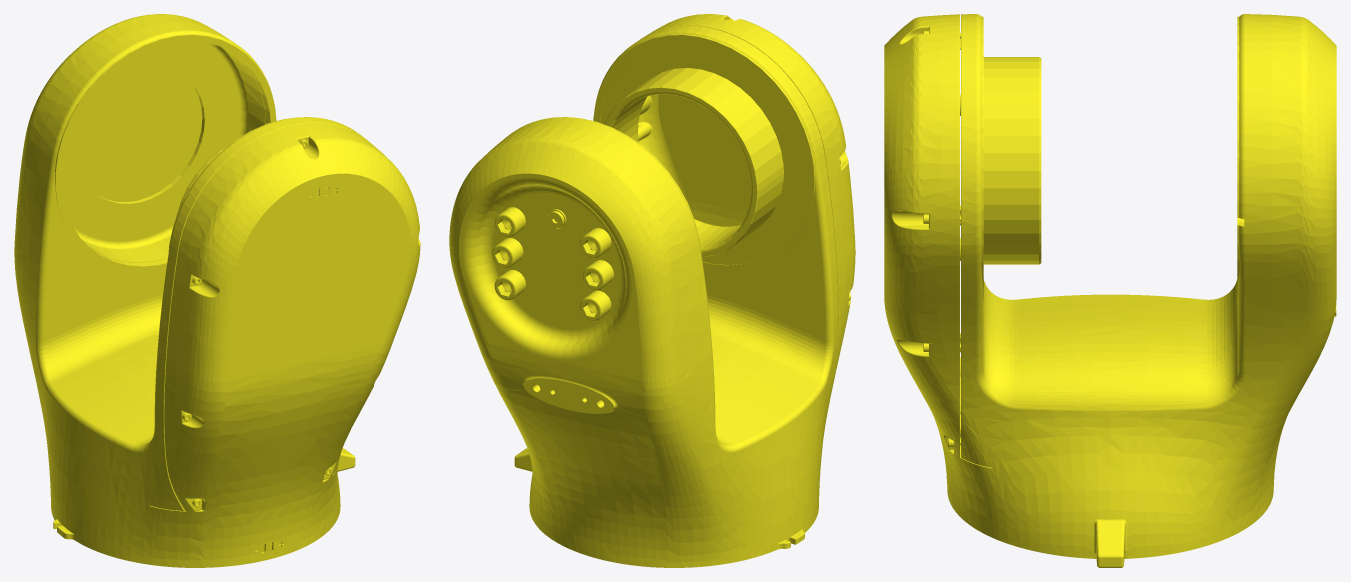
3 views of the same model, side by side, from view 1: azimuth 30°, elevation 25°; view 2: azimuth 150°, elevation 25°; view 3: azimuth 270°, elevation 25° (orthographic). The views are drawn at different scales.
Parts seen in each view (by area): view 1: Link1; view 2: Link1; view 3: Link1.
Part boxes in pixels (x1,y1,x2,y2): Link1: (14,14,420,567); Link1: (449,14,855,567); Link1: (884,14,1336,567).
Bounding box in the file's own units: 0.268 × 0.3267 × 0.3875.
